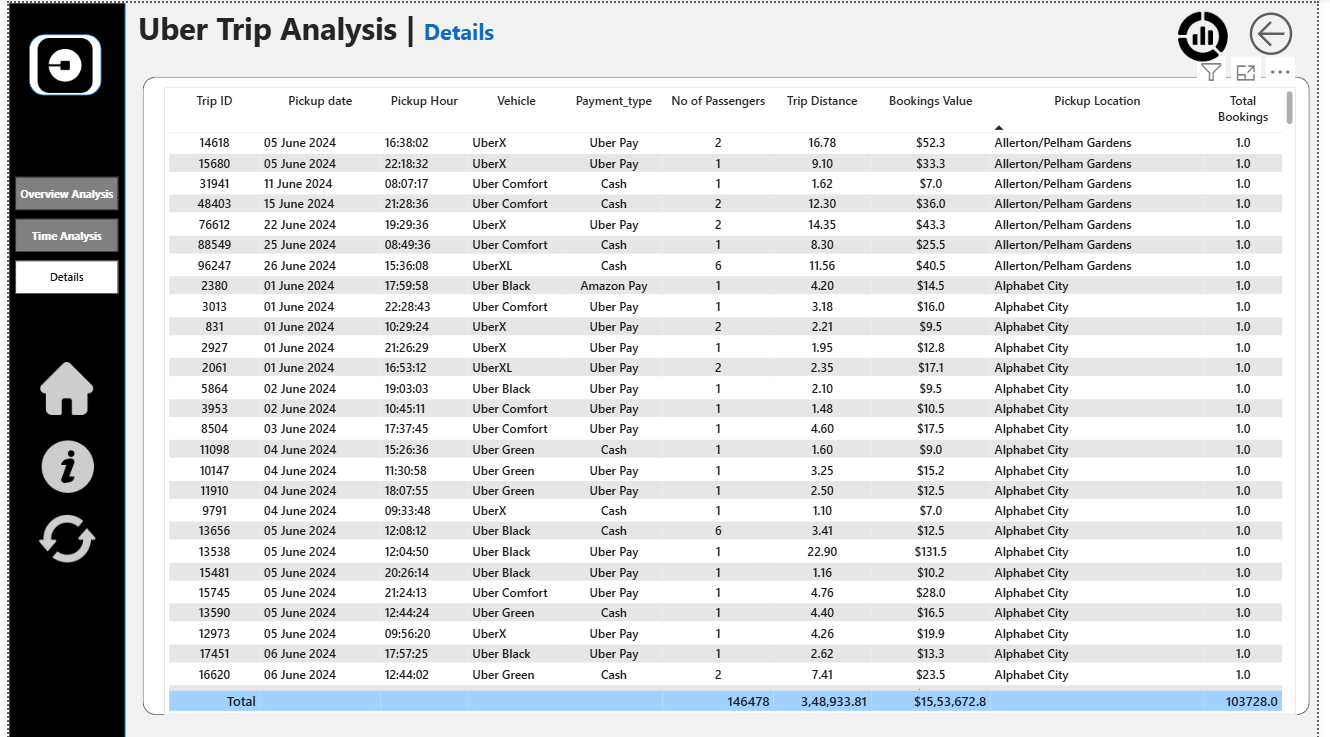

This screenshot's page, from the dashboard's own definition file:
{"tool":"powerbi","page":{"name":"Details","canvas":[1600,900],"ordinal":2},"visuals":[{"type":"shape","box":[0,0,142.2,900.3],"z":0},{"type":"textbox","box":[152.9,0,620.6,71.8],"z":1000},{"type":"shape","box":[164,89.9,1426.9,780.5],"z":2000},{"type":"tableEx","fields":{"Values":["Trip Details.Trip ID","Trip Details.Pickup date","Trip Details.Pickup Hour (HH MM SS)","Trip Details.Vehicle","Trip Details.Payment_type","Sum(Trip Details.passenger_count)","All Measures.Total Trip Distance Measure","All Measures.Total Bookings Value","Location Table.Location","All Measures.Total Bookings"]},"box":[189.2,102.5,1385.9,767.8],"z":3000},{"type":"actionButton","box":[1510,5.1,66,66],"z":4000},{"type":"image","box":[1421.9,10.2,76.2,60.9],"z":5000},{"type":"pageNavigator","box":[7.9,212.9,126.1,145.1],"z":6000},{"type":"shape","box":[24.5,38.2,88.7,74.9],"z":7000},{"type":"image","box":[21.4,42.8,94.8,67.3],"z":8000},{"type":"image","box":[33.6,620.6,74.9,68.8],"z":9000},{"type":"image","box":[35.2,535,73.4,64.2],"z":10000},{"type":"image","box":[38,432,65.1,77.7],"z":10001}]}

Visuals, with their boxes on the page's 1600x900 design canvas (x1, y1, x2, y2). These are canvas units, not pixel positions in the 1330x737 screenshot, which may show the page scaled, cropped or inside an application window:
shape: [0, 0, 142, 900]
textbox: [153, 0, 774, 72]
shape: [164, 90, 1591, 870]
tableEx - Trip Details.Trip ID x Trip Details.Pickup date: [189, 102, 1575, 870]
actionButton: [1510, 5, 1576, 71]
image: [1422, 10, 1498, 71]
pageNavigator: [8, 213, 134, 358]
shape: [24, 38, 113, 113]
image: [21, 43, 116, 110]
image: [34, 621, 108, 689]
image: [35, 535, 109, 599]
image: [38, 432, 103, 510]
